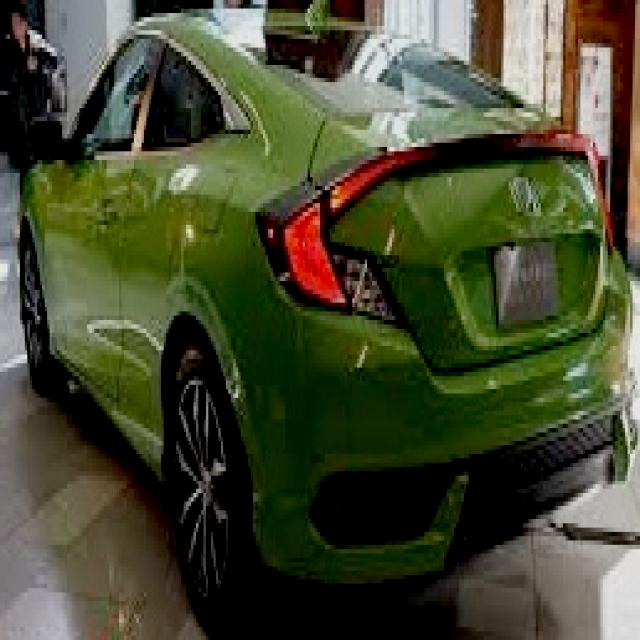green: (20, 9, 637, 615)
